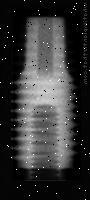Keystone Dental: (12, 8, 81, 181)
